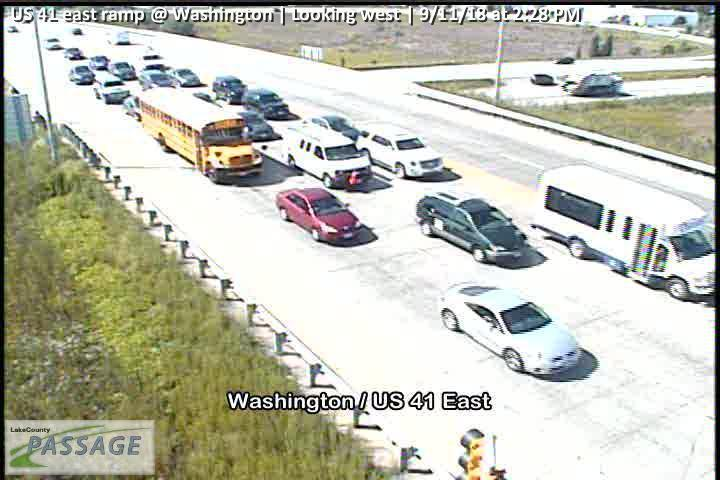Bus: (139, 84, 265, 184)
SUV: (281, 123, 373, 192), (246, 85, 291, 121), (565, 71, 621, 98), (92, 72, 130, 105), (213, 75, 250, 104), (139, 68, 171, 91), (171, 67, 203, 87), (113, 30, 129, 44)
Sedan: (438, 279, 586, 381), (274, 186, 365, 247), (358, 124, 443, 183), (238, 108, 275, 143), (68, 64, 95, 87), (111, 60, 135, 82), (121, 95, 141, 120), (143, 52, 164, 69), (91, 55, 108, 71), (64, 47, 83, 60), (44, 37, 62, 50), (551, 56, 574, 66), (70, 28, 84, 36)
Truck: (530, 163, 714, 302), (415, 191, 530, 265)
